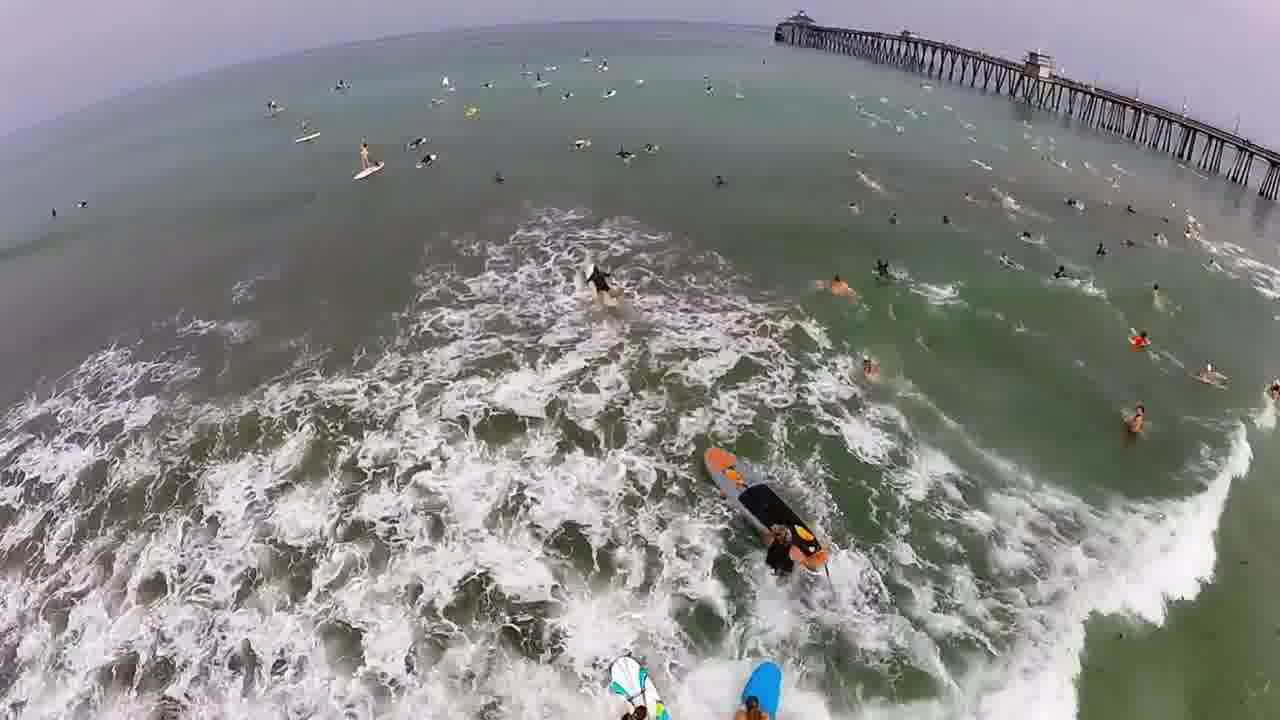swimmer: (814, 265, 865, 308), (859, 246, 908, 289), (700, 166, 740, 194)
